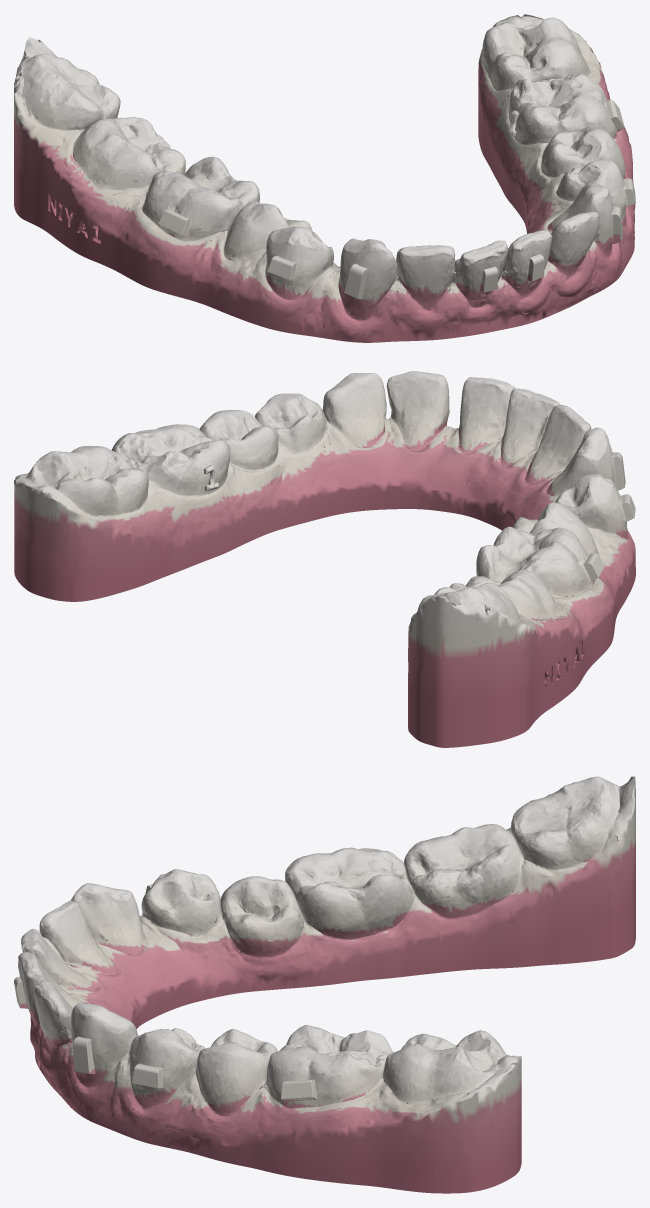
File: Niya Priority Lower jaw - 01 - Model.glb
3 renders of one model, top to bottom at view 1: azimuth 30°, elevation 25°; view 2: azimuth 150°, elevation 25°; view 3: azimuth 270°, elevation 25°, orthographic. The views are drawn at different scales.
Visible parts, largest first — view 1: Niya Priority Lower jaw - 01 - Model; view 2: Niya Priority Lower jaw - 01 - Model; view 3: Niya Priority Lower jaw - 01 - Model.
Part boxes in pixels (bbox=[...]): Niya Priority Lower jaw - 01 - Model: bbox=[14, 14, 635, 342]; Niya Priority Lower jaw - 01 - Model: bbox=[14, 371, 635, 747]; Niya Priority Lower jaw - 01 - Model: bbox=[14, 776, 635, 1193].
Size of the model in its own units: 62.72 by 16.53 by 58.51.
